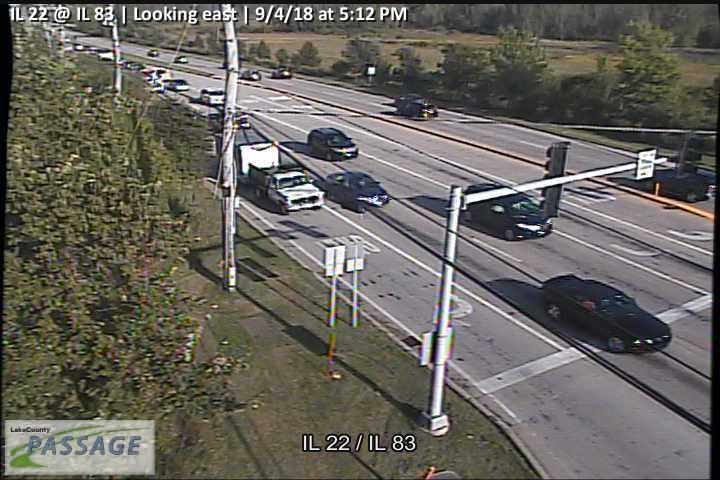SUV: (456, 183, 553, 241), (634, 165, 716, 203), (307, 127, 360, 161)
Sedan: (541, 274, 673, 354), (326, 170, 390, 213)
Truck: (215, 129, 325, 215)
